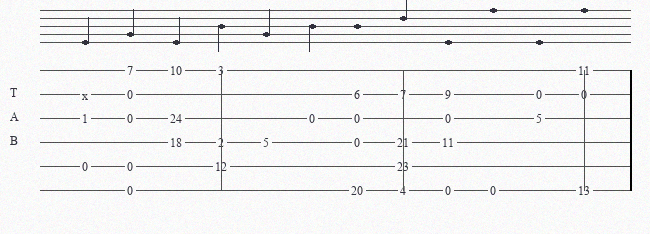0: (82, 160, 92, 173), (127, 112, 137, 125), (127, 88, 137, 101), (127, 160, 137, 173), (127, 184, 137, 197), (309, 112, 319, 125), (354, 136, 364, 149), (354, 112, 364, 125), (445, 112, 455, 125), (445, 184, 455, 197), (490, 184, 500, 197), (536, 88, 546, 101), (581, 88, 591, 101)
1: (82, 112, 92, 125)
10: (170, 64, 186, 77)
11: (442, 136, 458, 149), (578, 64, 594, 77)
12: (215, 160, 231, 173)
13: (578, 184, 594, 197)
18: (170, 136, 186, 149)
2: (218, 136, 228, 149)
20: (351, 184, 367, 197)
21: (397, 136, 413, 149)
23: (397, 160, 413, 173)
24: (170, 112, 186, 125)
3: (218, 64, 228, 77)
4: (400, 184, 410, 197)
5: (263, 136, 273, 149), (536, 112, 546, 125)
6: (354, 88, 364, 101)
7: (127, 64, 137, 77), (400, 88, 410, 101)
9: (445, 88, 455, 101)
x: (82, 89, 92, 99)
